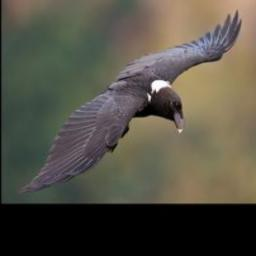Crow: (16, 8, 242, 197)
